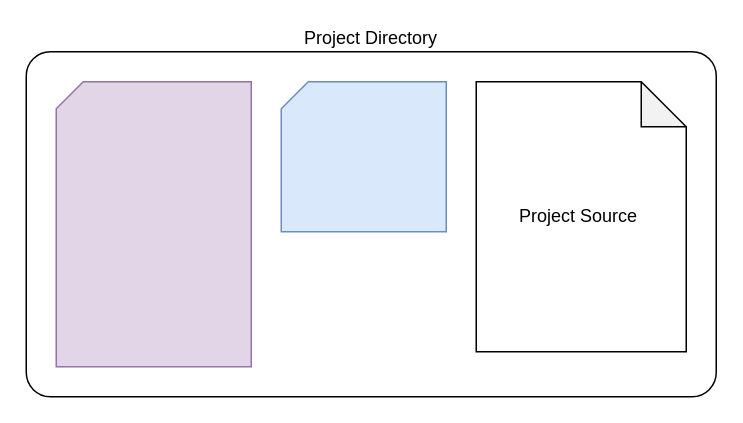
Image size: 743x423. Some labels were removed from this diagram. The shapes that lost their labels are listed below. From the top down, each one's centre as x and y in pixels, then its label:
At point (363, 156): ".dockerignore".
At point (153, 223): "Dockerfile".
